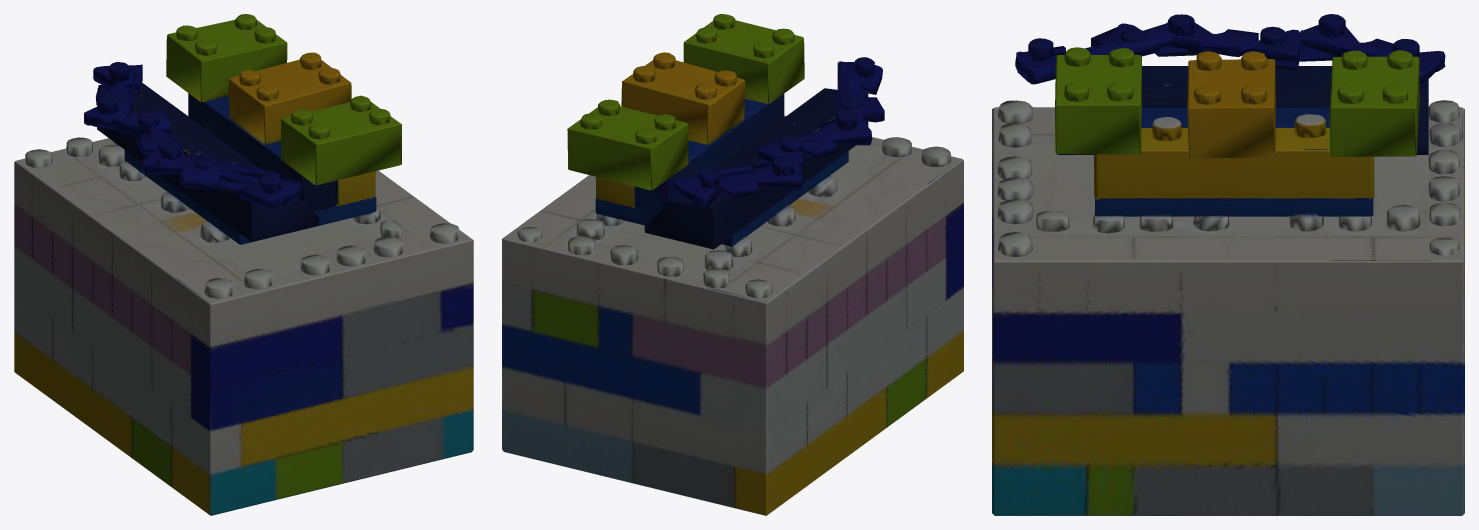
Rendered from object_67_asset_eef90e70.glb.
3 renders of one model, left to right at view 1: azimuth 30°, elevation 25°; view 2: azimuth 150°, elevation 25°; view 3: azimuth 270°, elevation 25°, orthographic. The views are drawn at different scales.
Visible parts, largest first — view 1: tripo_node_573fc683-1564-46ac-8130-8f3840467153; view 2: tripo_node_573fc683-1564-46ac-8130-8f3840467153; view 3: tripo_node_573fc683-1564-46ac-8130-8f3840467153.
Part boxes in pixels (x1,y1,x2,y2): tripo_node_573fc683-1564-46ac-8130-8f3840467153: (14,14,473,515); tripo_node_573fc683-1564-46ac-8130-8f3840467153: (502,14,963,515); tripo_node_573fc683-1564-46ac-8130-8f3840467153: (992,14,1464,515).
Bounding box in the file's own units: 0.7754 × 0.9238 × 0.998.
1 material, 1 textured.
